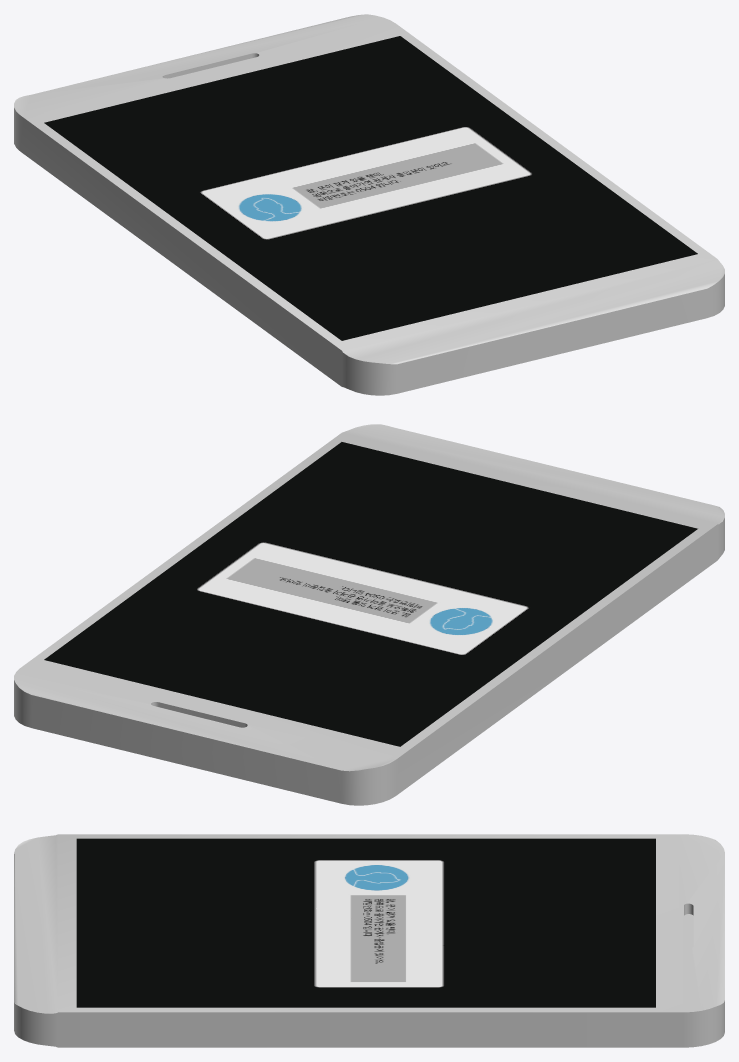
File: Phone.FBX
3 renders of one model, top to bottom at view 1: azimuth 30°, elevation 25°; view 2: azimuth 150°, elevation 25°; view 3: azimuth 270°, elevation 25°, orthographic. The views are drawn at different scales.
Parts seen in each view (by area): view 1: Plane001, Rectangle001; view 2: Plane001, Rectangle001; view 3: Plane001, Rectangle001.
Part boxes in pixels (x1,y1,x2,y2): Plane001: [44, 36, 697, 340]; Rectangle001: [14, 14, 724, 395]; Plane001: [44, 442, 697, 746]; Rectangle001: [14, 424, 724, 805]; Plane001: [76, 838, 655, 1007]; Rectangle001: [14, 834, 724, 1047].
Size of the model in its own units: 54.1 by 5.03 by 91.23.
